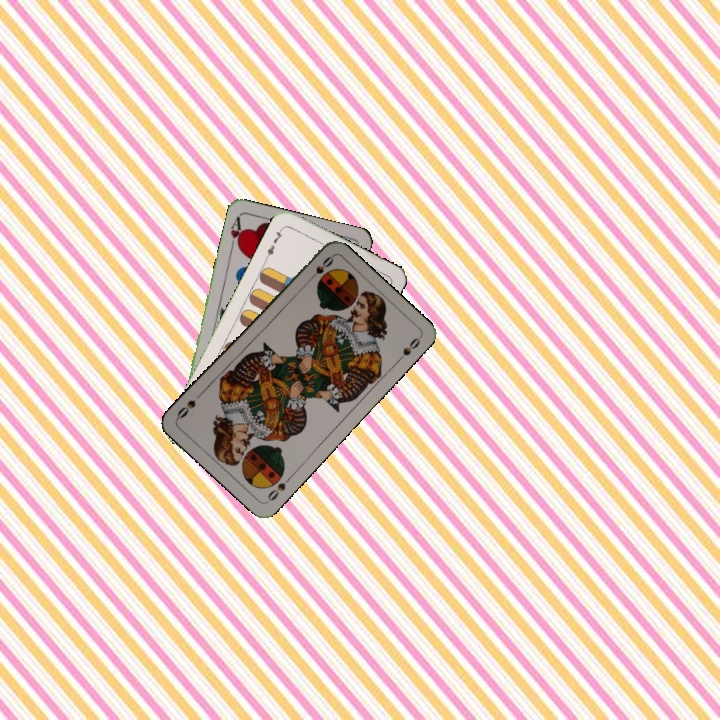E7: (262, 223, 286, 261)
HA: (226, 213, 246, 253)
SO: (304, 252, 336, 285), (263, 472, 295, 505)
